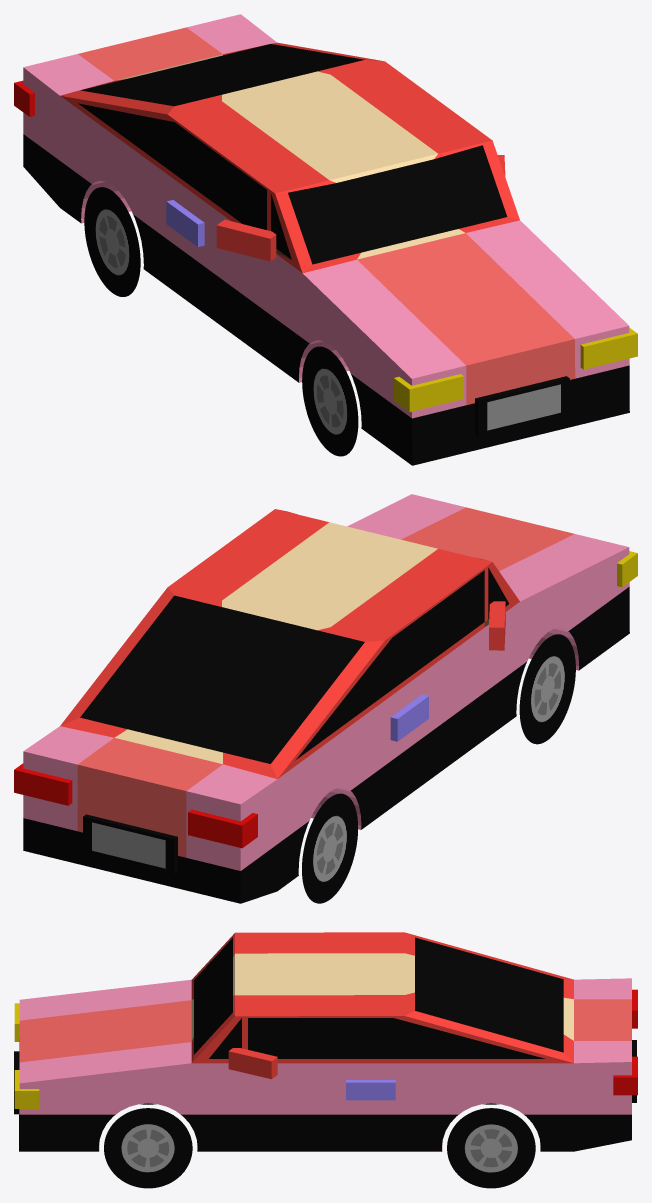
Rendered from Mobil_1_Pink_D.fbx.
3 renders of one model, top to bottom at view 1: azimuth 30°, elevation 25°; view 2: azimuth 150°, elevation 25°; view 3: azimuth 270°, elevation 25°, orthographic. The views are drawn at different scales.
Visible parts, largest first — view 1: Mobil1; view 2: Mobil1; view 3: Mobil1.
Boxes of the visible parts, x1=… form: Mobil1: x1=14, y1=14, x2=637, y2=465; Mobil1: x1=14, y1=494, x2=637, y2=903; Mobil1: x1=14, y1=932, x2=637, y2=1188.
Size of the model in its own units: 529 by 385 by 1261.
Materials: 6 (4 with a texture image).
